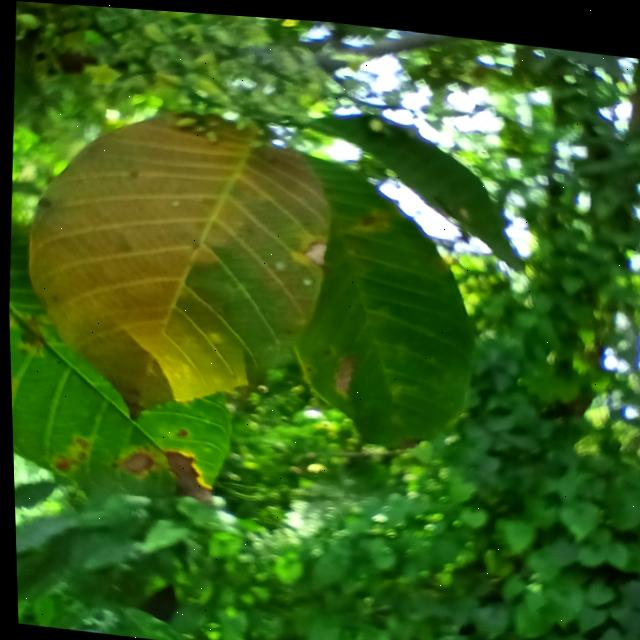Leaf-Blight: (302, 237, 325, 264)
